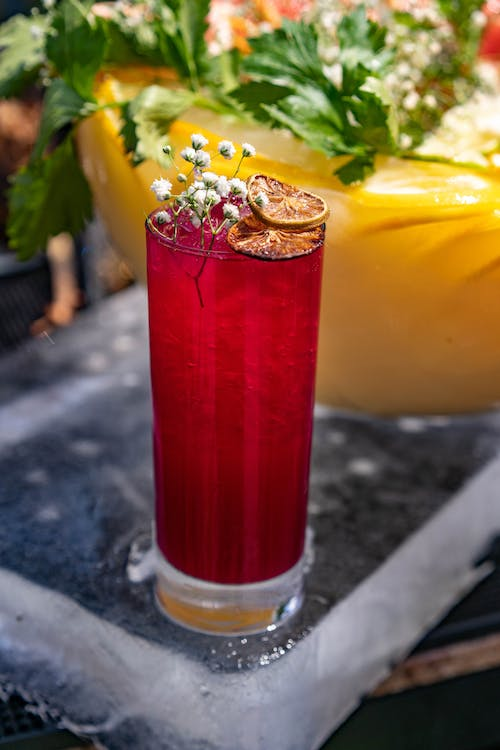alcohol: (142, 193, 328, 638)
